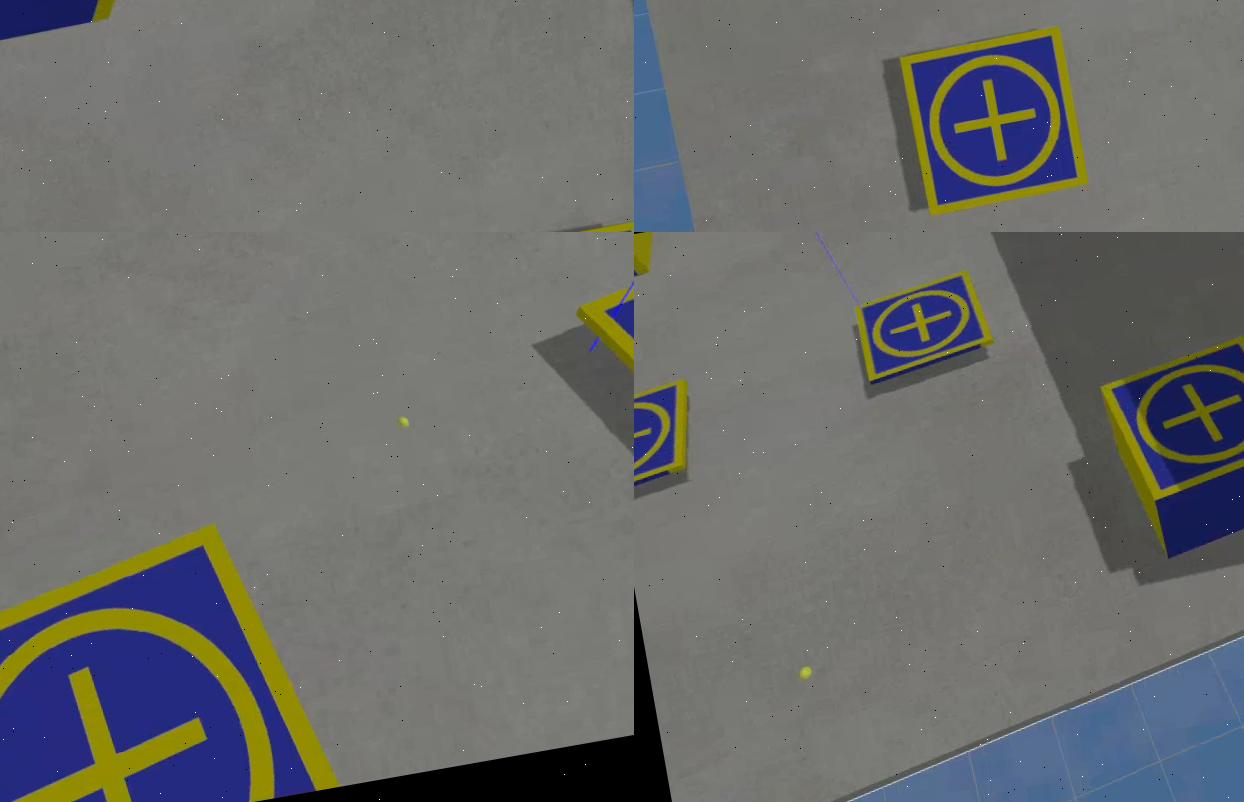small_base: (1, 510, 343, 802), (900, 26, 1097, 221), (1094, 323, 1244, 508), (566, 233, 635, 602), (851, 267, 1005, 389), (635, 377, 707, 494)
